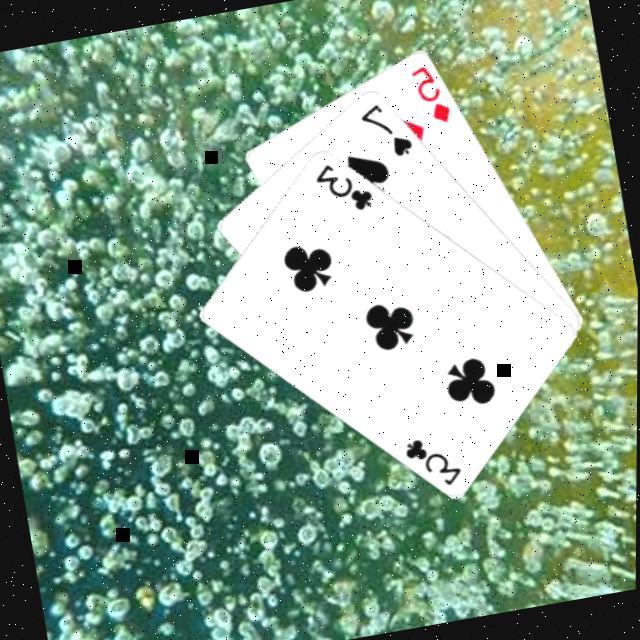3C: (307, 152, 376, 220), (397, 427, 466, 495)
5D: (403, 57, 453, 129)
7S: (353, 94, 416, 165)
